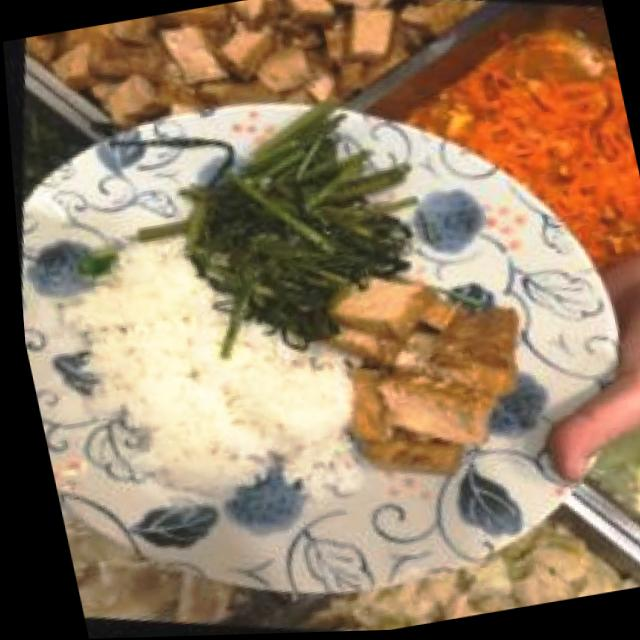carrot_eggs: (417, 21, 640, 205)
rice: (57, 211, 363, 531)
water_spinach: (150, 85, 444, 365)
